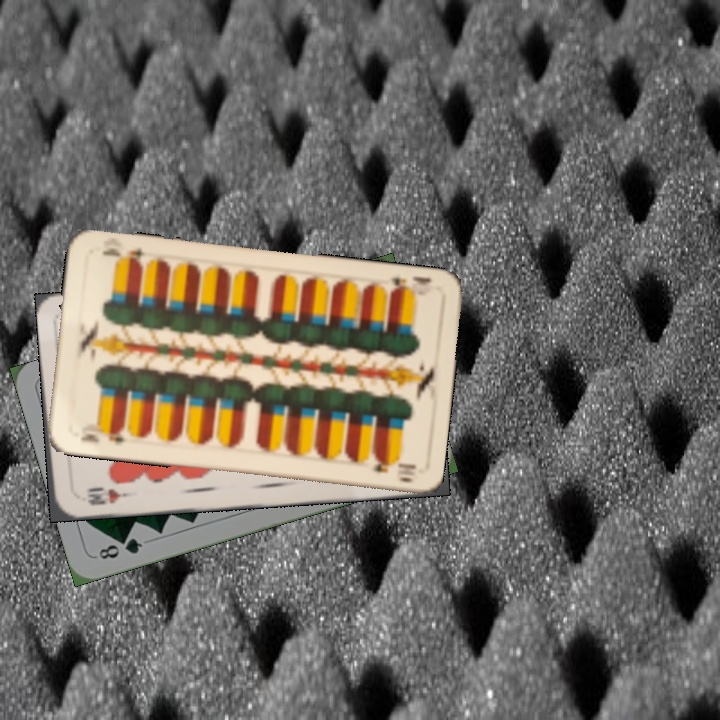E10: (385, 272, 434, 299), (76, 424, 127, 447)
G8: (91, 534, 145, 562)
H10: (82, 483, 133, 508)
